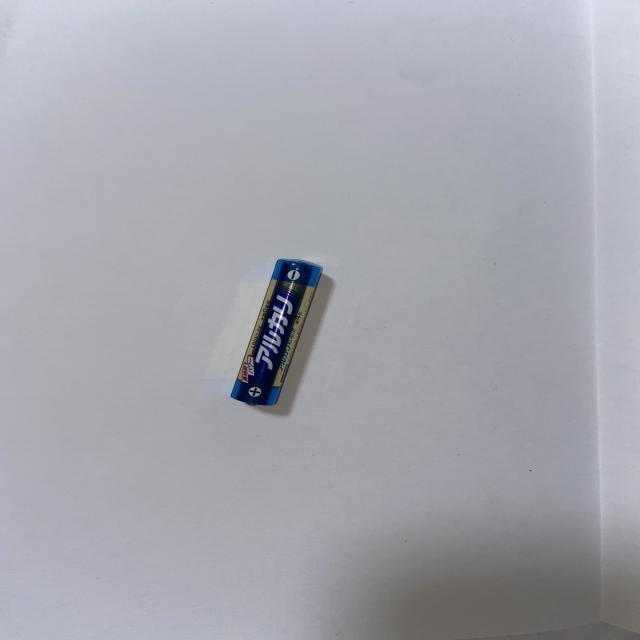Hazard: (230, 260, 326, 408)
